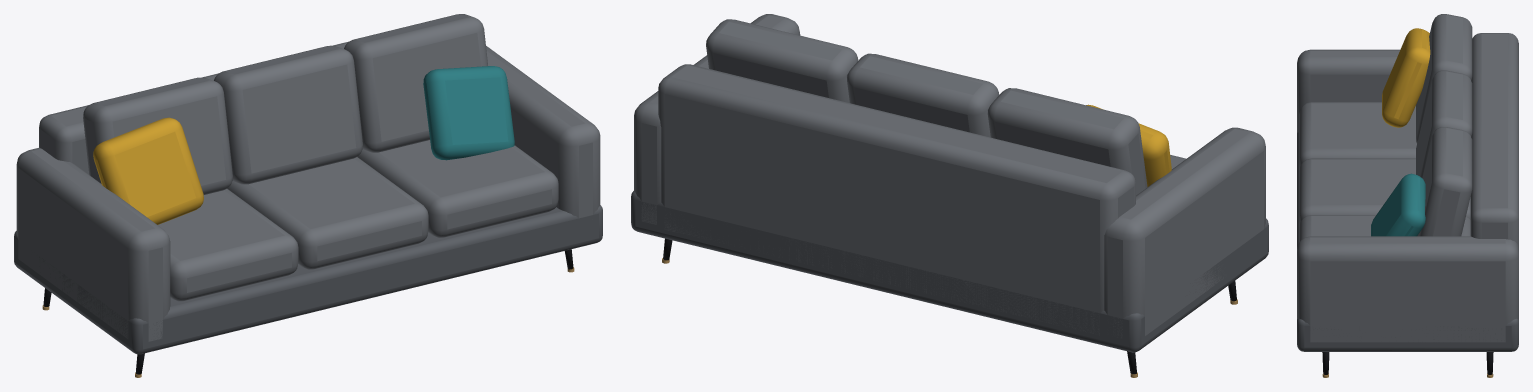
Rendered from sofa_modern.glb.
3 views of the same model, side by side, from view 1: azimuth 30°, elevation 25°; view 2: azimuth 150°, elevation 25°; view 3: azimuth 270°, elevation 25° (orthographic). The views are drawn at different scales.
Parts seen in each view (by area): view 1: sofa_modern_sofa_fabric, sofa_modern_sofa_fabric_dark, sofa_modern_pillow_mustard, sofa_modern_pillow_teal; view 2: sofa_modern_sofa_fabric, sofa_modern_sofa_fabric_dark, sofa_modern_pillow_mustard; view 3: sofa_modern_sofa_fabric, sofa_modern_sofa_fabric_dark, sofa_modern_pillow_mustard, sofa_modern_pillow_teal, sofa_modern_sofa_leg.
Boxes of the visible parts, x1=… form: sofa_modern_sofa_fabric: x1=16, y1=14, x2=600, y2=341; sofa_modern_sofa_fabric_dark: x1=14, y1=205, x2=602, y2=354; sofa_modern_pillow_mustard: x1=93, y1=117, x2=203, y2=224; sofa_modern_pillow_teal: x1=423, y1=66, x2=514, y2=160; sofa_modern_sofa_fabric: x1=634, y1=14, x2=1265, y2=338; sofa_modern_sofa_fabric_dark: x1=631, y1=191, x2=1268, y2=352; sofa_modern_pillow_mustard: x1=1086, y1=104, x2=1171, y2=186; sofa_modern_sofa_fabric: x1=1297, y1=14, x2=1518, y2=342; sofa_modern_sofa_fabric_dark: x1=1297, y1=132, x2=1518, y2=351; sofa_modern_pillow_mustard: x1=1382, y1=28, x2=1430, y2=127; sofa_modern_pillow_teal: x1=1371, y1=173, x2=1425, y2=236; sofa_modern_sofa_leg: x1=1322, y1=352, x2=1493, y2=374.
Size of the model in its own units: 2 by 0.8645 by 0.92.
